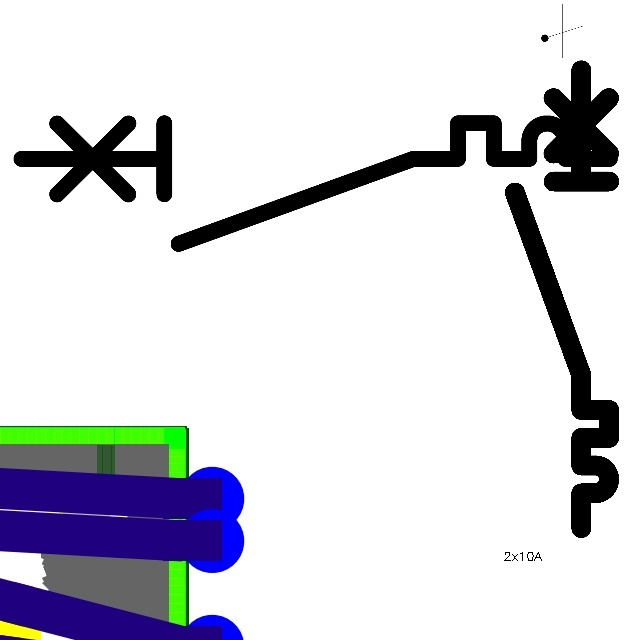interruptor_termomagnetico: (6, 108, 625, 259), (503, 58, 621, 539)
